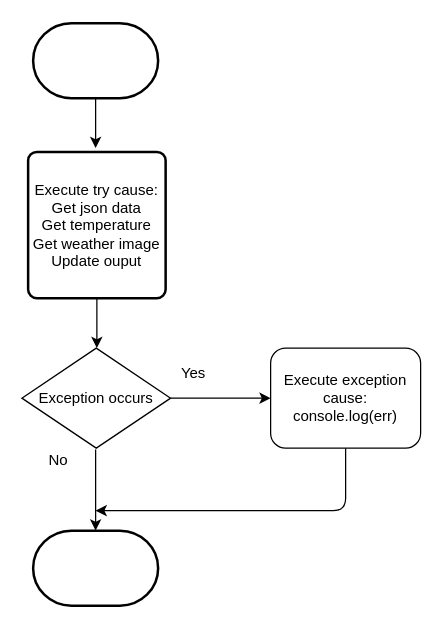
This 443x628 diagram has some shape labels left out. The shapes that lost their labels are listed below. From the top down, each one's centre as x and y in pixels, then its label:
At (95,60): "Start".
At (95,567): "Stop".
